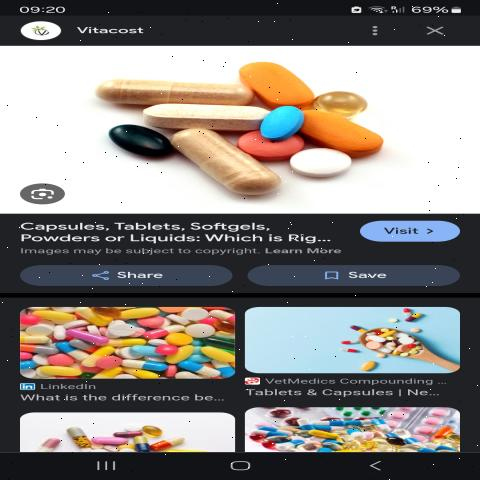Pill: (176, 126, 285, 203), (78, 77, 271, 106), (140, 96, 287, 130), (240, 55, 320, 106), (282, 143, 363, 179)
